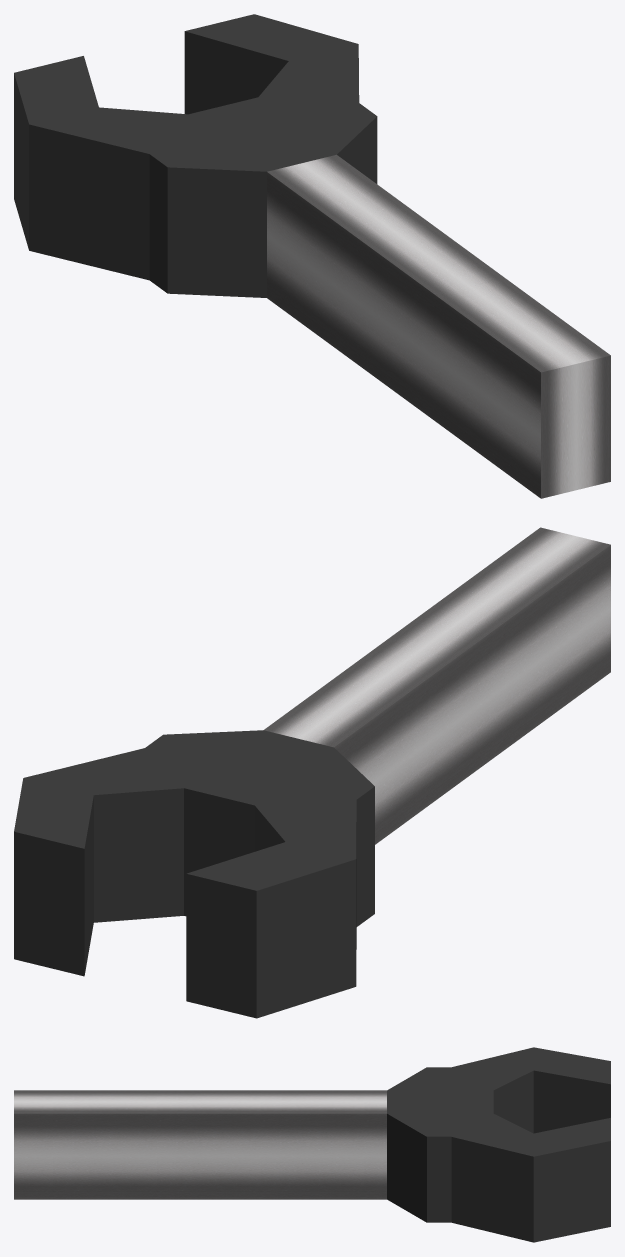
Rendered from RobotArm.FBX.
3 renders of one model, top to bottom at view 1: azimuth 30°, elevation 25°; view 2: azimuth 150°, elevation 25°; view 3: azimuth 270°, elevation 25°, orthographic. The views are drawn at different scales.
Parts seen in each view (by area): view 1: Box002; view 2: Box002; view 3: Box002.
Boxes of the visible parts, <box> form: Box002: <box>14,14,610,498</box>; Box002: <box>14,527,610,1018</box>; Box002: <box>14,1047,610,1242</box>.
Bounding box in the file's own units: 17.63 × 6.46 × 40.66.
2 materials, 2 textured.
